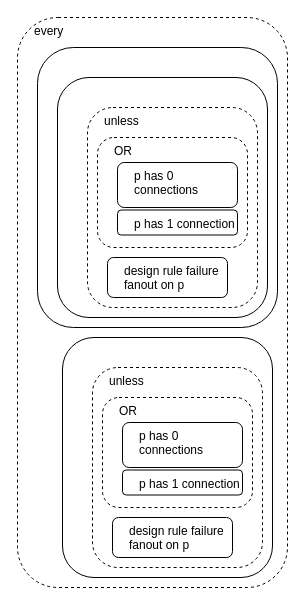
The diagram is 305 pixels wide and 605 high, and some of its shapes have lost their labels. The box of each missing label's shape, as (x1, y1, x2, y2) in pixels:
for every child of me => c: (36, 46, 278, 328)
for every output port of me => p: (62, 336, 272, 578)
for every port of c => p: (56, 76, 268, 318)
